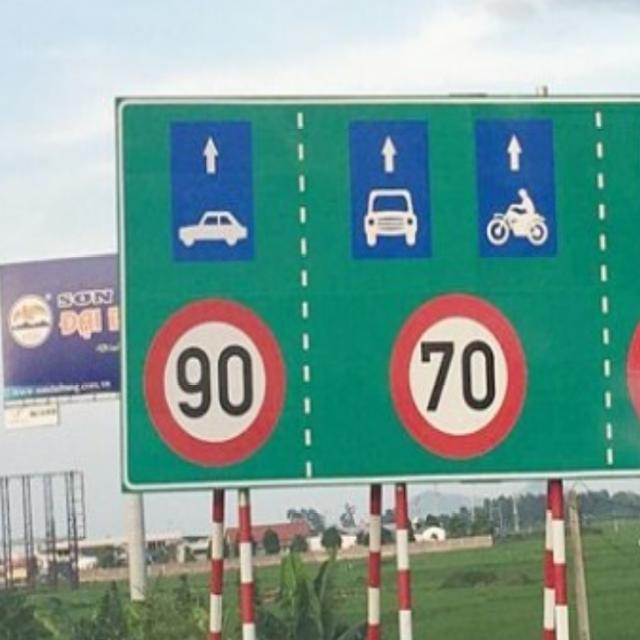Speed Limit -90-: (139, 294, 288, 469)
